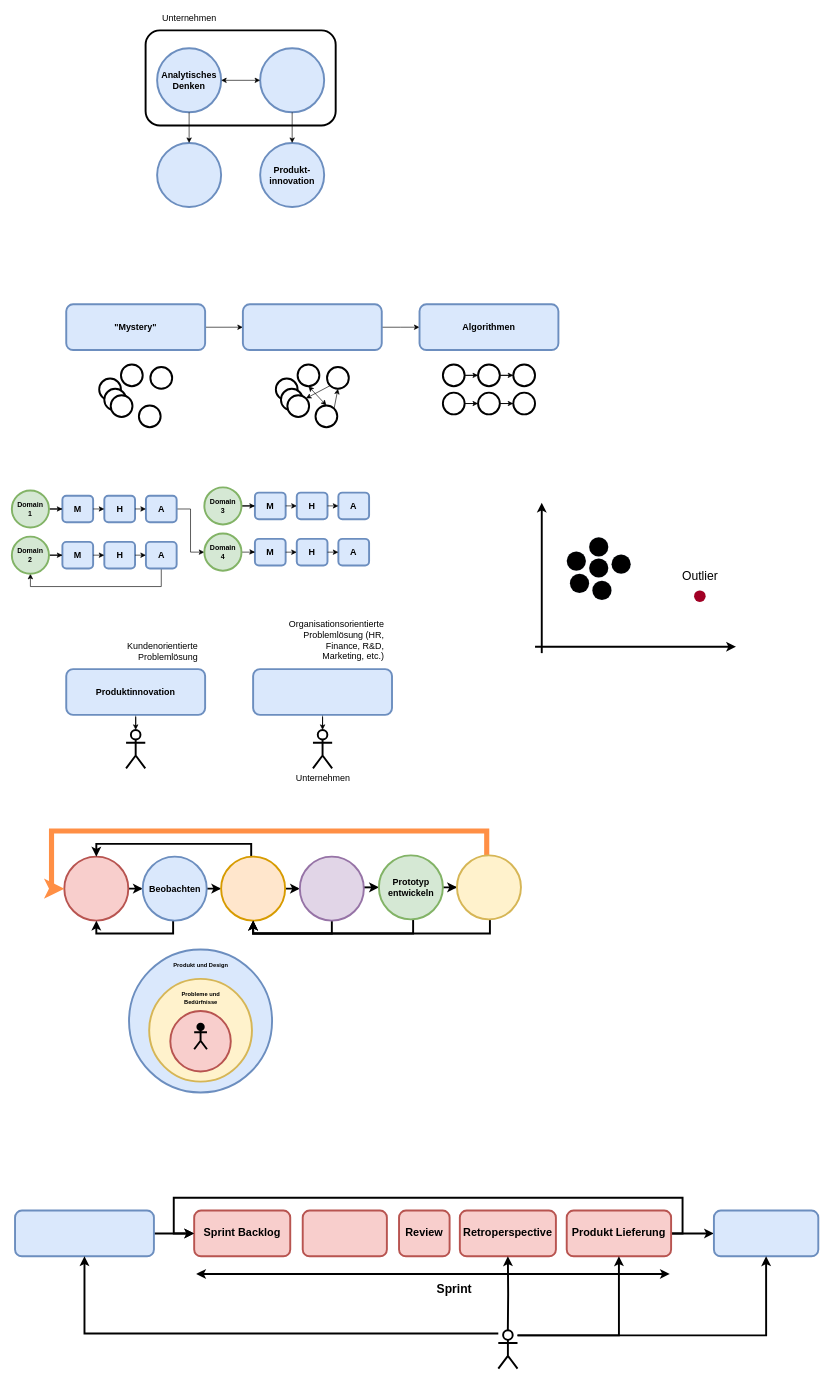
This 831x1398 diagram has some shape labels left out. Here are the shapes that lost their labels. From the top down, the centre of each, then its label:
the point at 292,80: Kreatives Denken
the point at 189,175: Skalierung
the point at 312,327: Heuristiken
the point at 322,692: Strukturinnovation
the point at 135,749: KundIn
the point at 96,888: Verstehen
the point at 253,888: Standpunkt definieren
the point at 331,888: Ideen finden
the point at 489,887: Testen
the point at 200,1036: KundInnen
the point at 84,1233: Product Backlog
the point at 344,1233: Daily Standup
the point at 766,1233: Produkt fertig
the point at 507,1349: Kunde
